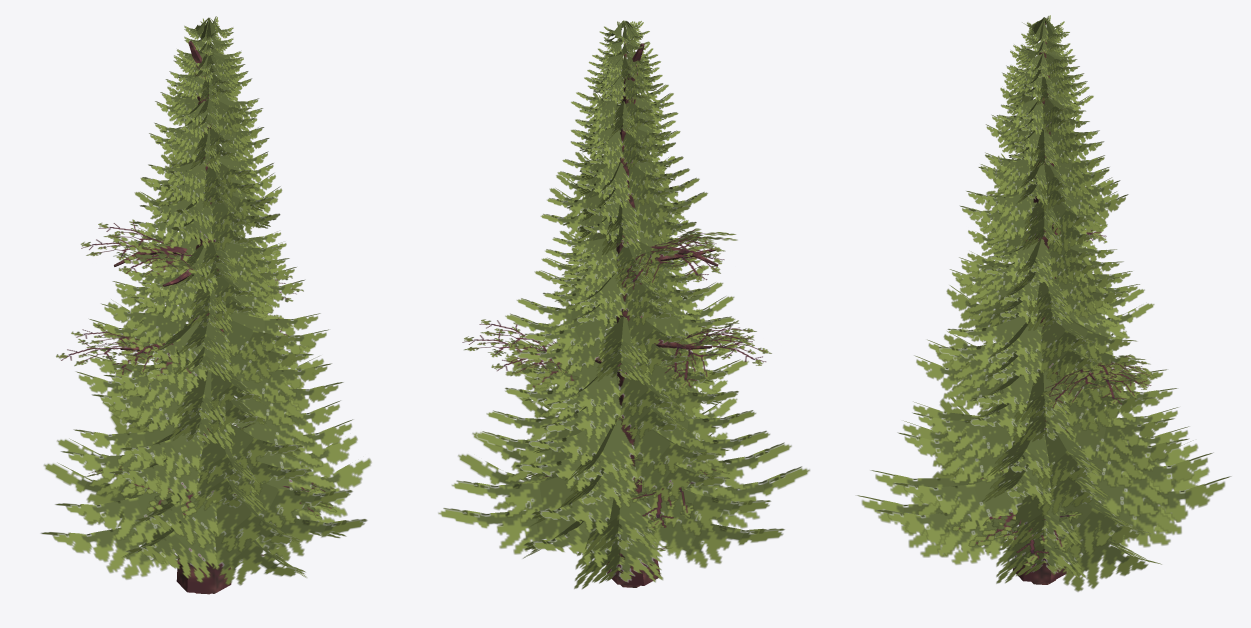
The model's file is small_tree_02.glb.
3 views of the same model, side by side, from view 1: azimuth 30°, elevation 25°; view 2: azimuth 150°, elevation 25°; view 3: azimuth 270°, elevation 25° (orthographic).
Parts seen in each view (by area): view 1: spiky_tree, tree_01, trunk_04; view 2: spiky_tree, tree_01, trunk_04; view 3: spiky_tree, tree_01, trunk_04, trunk_01.
Boxes of the visible parts, bbox=[...] form: spiky_tree: bbox=[40, 16, 371, 585]; tree_01: bbox=[56, 41, 336, 519]; trunk_04: bbox=[176, 548, 231, 593]; spiky_tree: bbox=[438, 20, 809, 589]; tree_01: bbox=[462, 43, 771, 530]; trunk_04: bbox=[606, 554, 660, 585]; spiky_tree: bbox=[856, 15, 1231, 591]; tree_01: bbox=[952, 41, 1157, 566]; trunk_04: bbox=[1012, 522, 1066, 582]; trunk_01: bbox=[952, 511, 1081, 565].
Size of the model in its own units: 26.38 by 43.36 by 26.91.
Materials: 7 (7 with a texture image).
